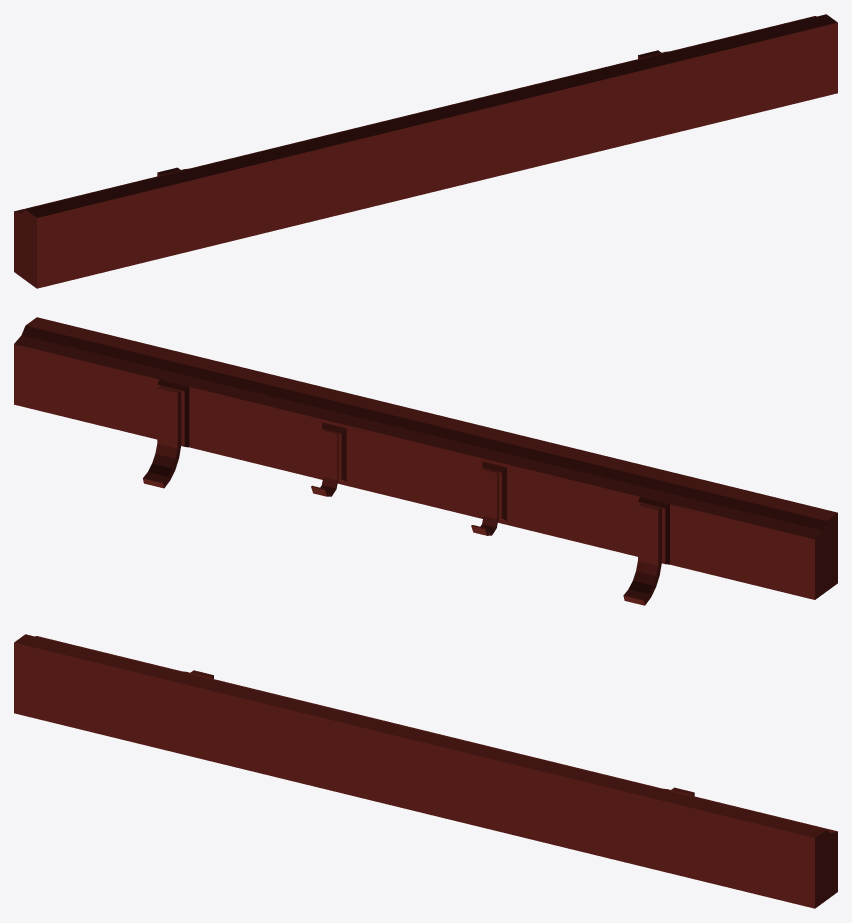
File: Coat Rack 1.fbx
3 renders of one model, top to bottom at view 1: azimuth 30°, elevation 25°; view 2: azimuth 150°, elevation 25°; view 3: azimuth 330°, elevation 25°, orthographic.
Parts seen in each view (by area): view 1: Node 0; view 2: Node 0; view 3: Node 0.
Part boxes in pixels (x1,y1,x2,y2): Node 0: (14, 14, 837, 288); Node 0: (14, 317, 837, 605); Node 0: (14, 634, 837, 908).
Bounding box in the file's own units: 0.1084 × 0.1329 × 1.13.
